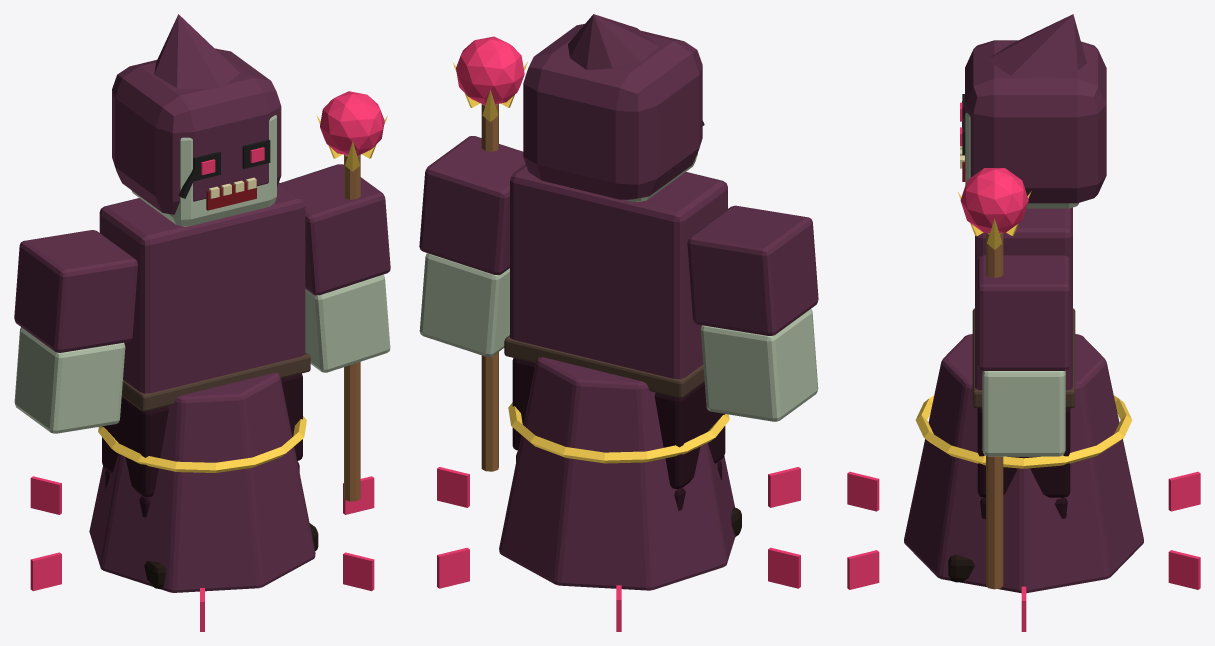
Rendered from zombi_invocador.obj.
The picture shows the model from 3 angles, left to right: view 1: azimuth 30°, elevation 25°; view 2: azimuth 150°, elevation 25°; view 3: azimuth 270°, elevation 25°; orthographic projection. The views are drawn at different scales.
Parts seen in each view (by area): view 1: Torso, Head, RightArm, LeftArm, Cube.017, Cube.020; view 2: Torso, Head, RightArm, LeftArm, Cube.017, Cube.020; view 3: Torso, RightArm, Head, Cube.020, Cube.022.
Part boxes in pixels (<box>): Torso: <box>30,182,374,631</box>; Head: <box>112,14,281,226</box>; RightArm: <box>280,91,390,501</box>; LeftArm: <box>14,230,137,433</box>; Cube.017: <box>102,396,168,497</box>; Cube.020: <box>281,373,302,460</box>; Torso: <box>437,164,800,631</box>; Head: <box>523,14,704,201</box>; RightArm: <box>419,36,527,471</box>; LeftArm: <box>687,205,818,421</box>; Cube.017: <box>654,382,725,488</box>; Cube.020: <box>512,358,535,450</box>; Torso: <box>847,207,1200,631</box>; RightArm: <box>958,168,1070,589</box>; Head: <box>960,14,1106,208</box>; Cube.020: <box>977,408,1070,497</box>; Cube.022: <box>948,555,974,582</box>.
Bounding box in the file's own units: 4.16 × 6.01 × 3.62.
3 materials, 1 textured.
